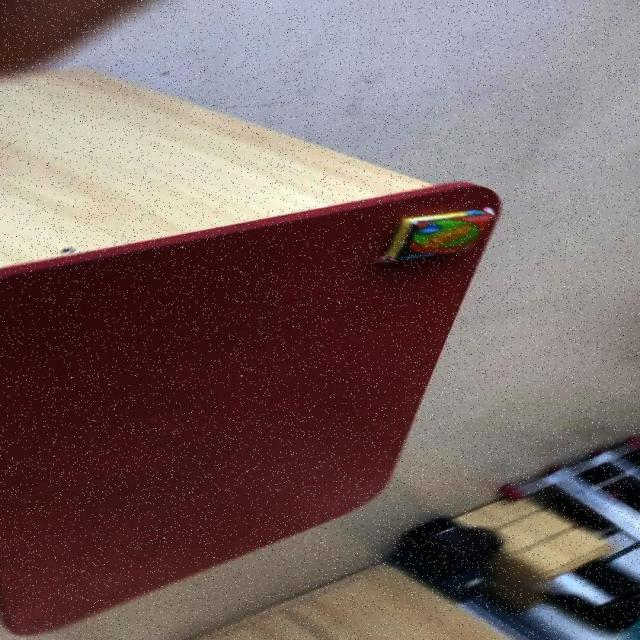Sponge: (0, 65, 501, 635), (372, 206, 494, 264)
